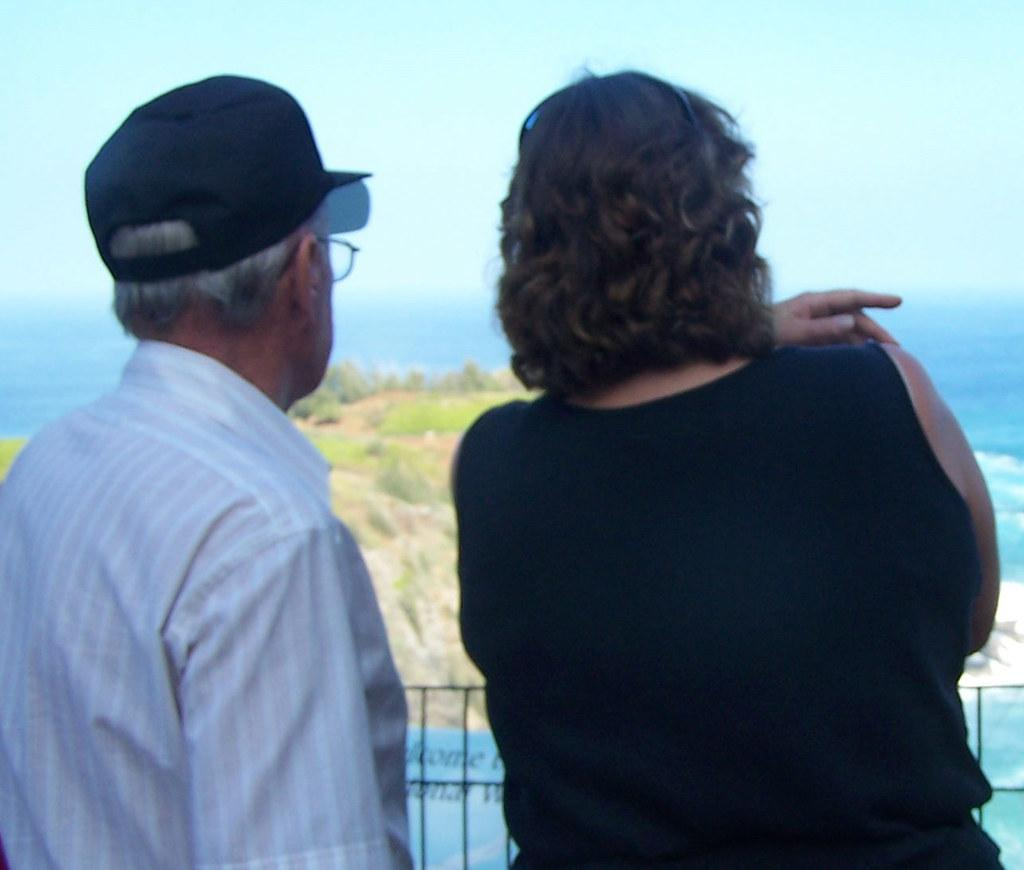Hat: (77, 68, 375, 280)
